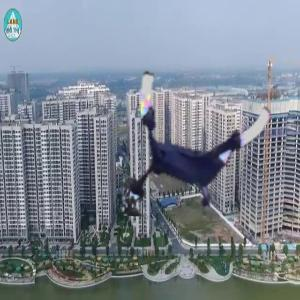drone: (125, 74, 273, 222)
